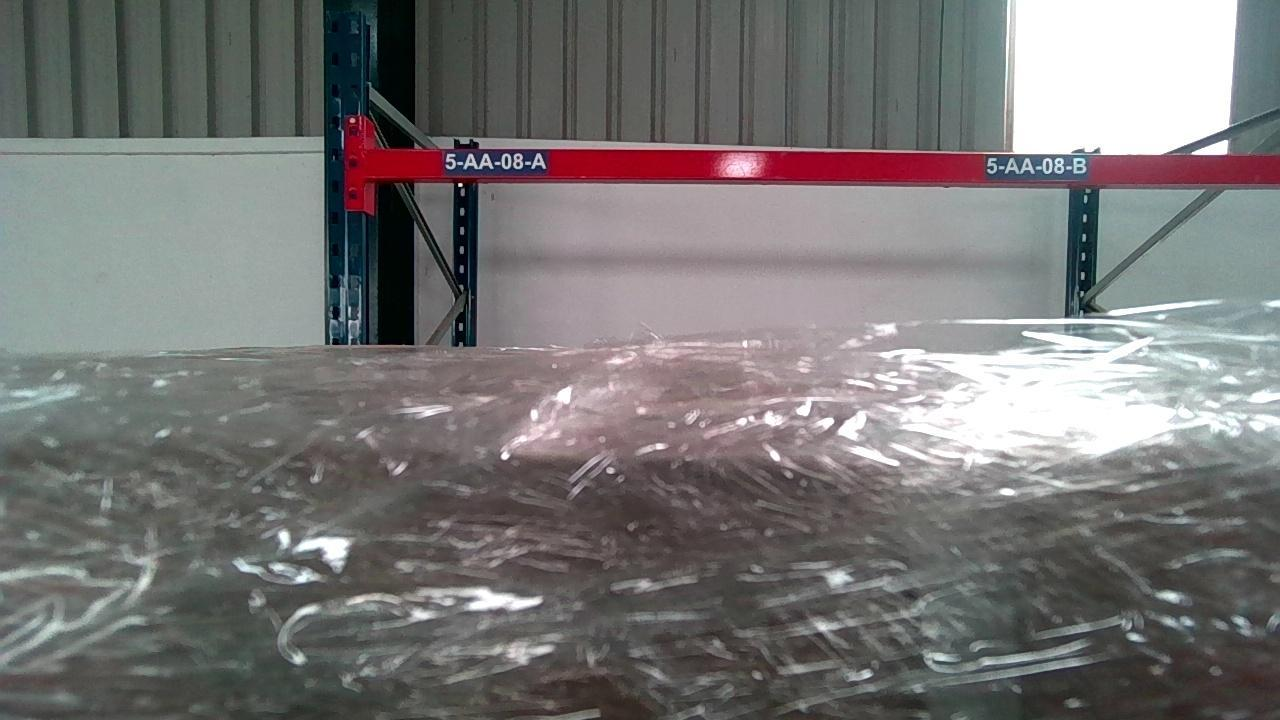h_rack: (366, 148, 1277, 182)
